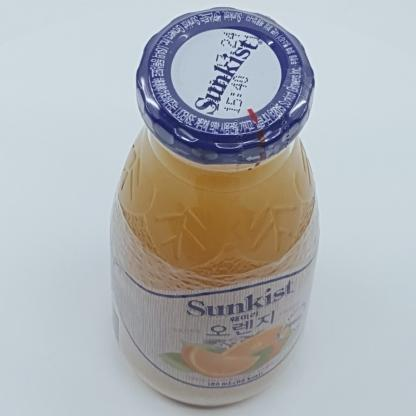----------180ML: (110, 7, 320, 407)
